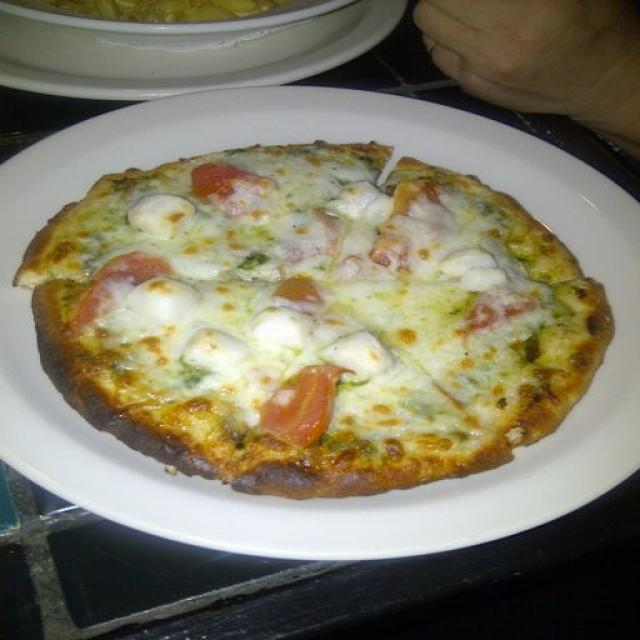Cheese: (440, 243, 515, 290), (355, 280, 430, 314), (136, 283, 201, 322), (326, 334, 389, 371), (260, 306, 309, 348), (191, 334, 252, 366), (340, 183, 391, 221), (130, 193, 178, 232)
Pizza: (13, 141, 613, 504)
Tomato: (266, 365, 336, 442), (466, 299, 534, 326), (192, 164, 262, 190), (106, 252, 166, 278), (408, 177, 442, 205), (285, 277, 321, 302)
